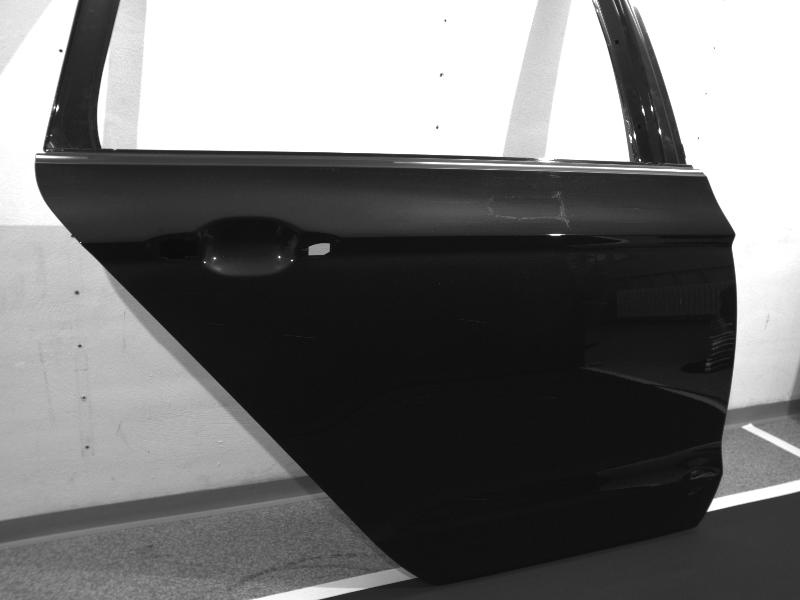scratch: (703, 317, 736, 379), (689, 467, 715, 496), (459, 318, 488, 325), (284, 333, 317, 339), (204, 320, 225, 326), (540, 396, 558, 401), (585, 361, 603, 366), (679, 299, 682, 305)
